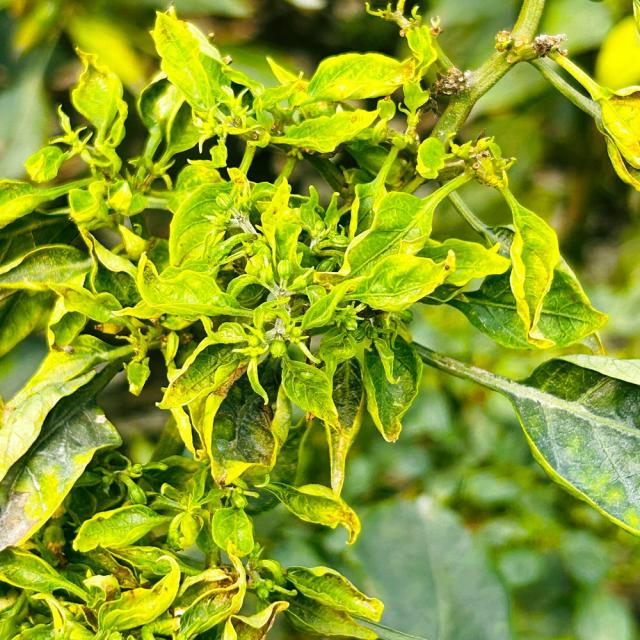Chilli_Leaf_Curl: (0, 0, 638, 638), (407, 337, 639, 538), (147, 3, 231, 118)
